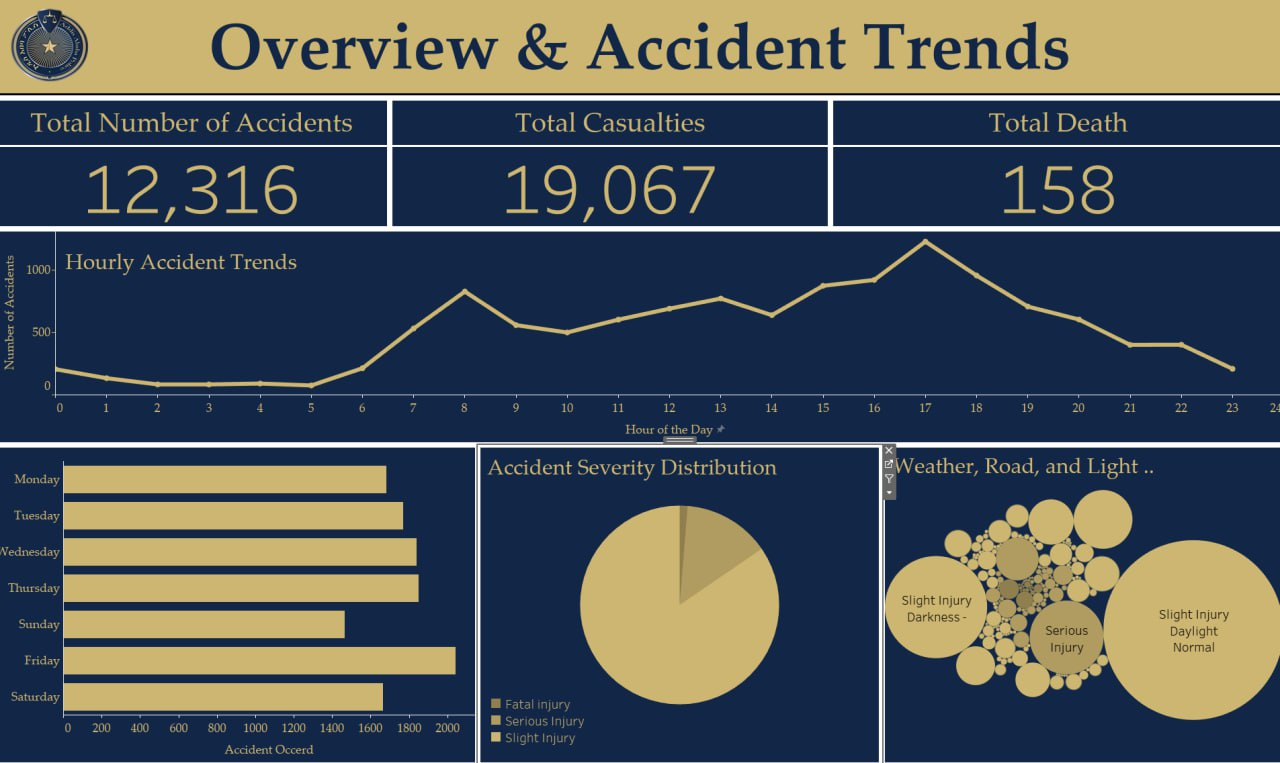

The page's visual inventory and layout, read from the dashboard file:
{"tool":"tableau","page":{"name":"Overview & Accident Trends","canvas":[1000,1000],"units":"permille","ordinal":2},"visuals":[{"type":"text","box":[4.1,6.8,991.8,136.7]},{"type":"image","param":"Image/image-removebg-preview (7).png","box":[17,28.2,102.6,95.7]},{"type":"worksheet","title":"Total Number of Accidents","mark":"Text","box":[4.1,143.6,304.1,166.7]},{"type":"worksheet","title":"Total Casualties","mark":"Text","box":[308.2,143.6,338.1,166.7]},{"type":"worksheet","title":"Total Death","mark":"Text","box":[646.4,143.6,349.5,166.7]},{"type":"worksheet","title":"Hourly Accident Trends","mark":"Line","rows":["Calculation_48132249309552640"],"cols":["Calculation_48132249314328577"],"box":[4.1,310.2,991.8,275]},{"type":"text","box":[57.2,332.5,206.7,37.6]},{"type":"worksheet","title":"Accidents by Day of the Week","mark":"Automatic","rows":["day_of_week"],"cols":["Calculation_48132249309552640"],"box":[4.1,585.2,371.9,408]},{"type":"worksheet","title":"Accident Severity Distribution","mark":"Pie","box":[376,585.2,309.9,408]},{"type":"worksheet","title":"Weather, Road, and Light Conditions","mark":"Circle","box":[685.9,585.2,309.9,408]},{"type":"text","box":[380.9,594,249,37.6]},{"type":"text","box":[694.9,814.5,115.5,168.4]},{"type":"legend","title":"Accident Severity Distribution","param":"[federated.0uqcvrg0gi0zg814yxjqq02ftocd].[none:accident_severity:nk]","box":[383.5,904.3,76.8,64.1]}]}

Visuals, with their boxes on the dashboard's canvas, which has no fixed pixel size, in thousandths of its width and height (x1, y1, x2, y2). These are canvas units, not pixel positions in the 1280x763 screenshot, which may show the page scaled, cropped or inside an application window:
text: locate(4, 7, 996, 144)
image: locate(17, 28, 120, 124)
"Total Number of Accidents" worksheet (Text marks): locate(4, 144, 308, 310)
"Total Casualties" worksheet (Text marks): locate(308, 144, 646, 310)
"Total Death" worksheet (Text marks): locate(646, 144, 996, 310)
"Hourly Accident Trends" worksheet (Line marks): locate(4, 310, 996, 585)
text: locate(57, 332, 264, 370)
"Accidents by Day of the Week" worksheet: locate(4, 585, 376, 993)
"Accident Severity Distribution" worksheet (Pie marks): locate(376, 585, 686, 993)
"Weather, Road, and Light Conditions" worksheet (Circle marks): locate(686, 585, 996, 993)
text: locate(381, 594, 630, 632)
text: locate(695, 814, 810, 983)
"Accident Severity Distribution" legend: locate(384, 904, 460, 968)
